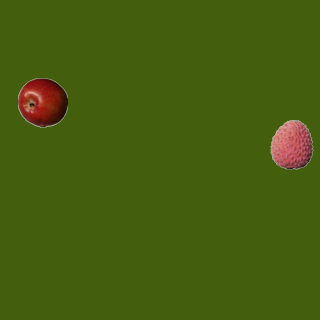Apple Braeburn: (17, 77, 67, 127)
Lychee: (266, 119, 316, 169)
